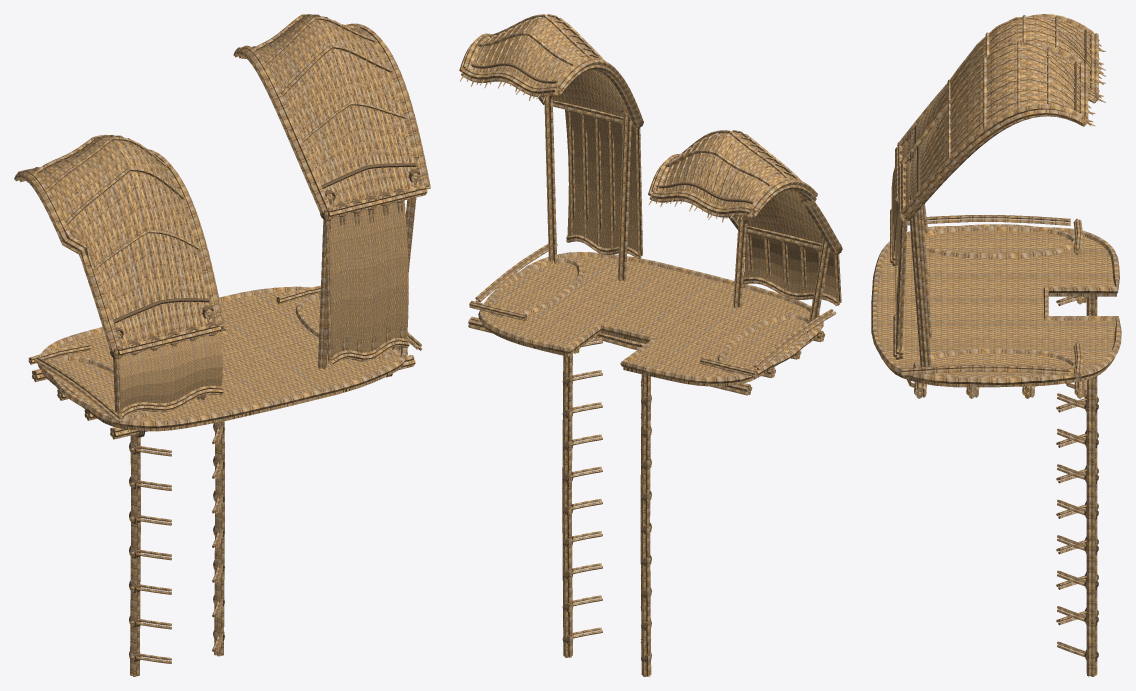
File: boughhome.glb
3 renders of one model, left to right at view 1: azimuth 30°, elevation 25°; view 2: azimuth 150°, elevation 25°; view 3: azimuth 270°, elevation 25°, orthographic. The views are drawn at different scales.
Parts seen in each view (by area): view 1: rainhood-right, rainhood-left, deck, ladder; view 2: deck, rainhood-right, rainhood-left, ladder; view 3: deck, rainhood-right, rainhood-left, ladder.
Part boxes in pixels (<box>): rainhood-right: <box>233,14,430,368</box>; rainhood-left: <box>14,134,224,418</box>; deck: <box>28,285,421,439</box>; ladder: <box>129,421,224,676</box>; deck: <box>468,244,836,395</box>; rainhood-right: <box>459,14,643,280</box>; rainhood-left: <box>648,130,842,321</box>; ladder: <box>562,338,651,676</box>; deck: <box>871,215,1121,398</box>; rainhood-right: <box>893,40,1095,374</box>; rainhood-left: <box>890,14,1105,275</box>; ladder: <box>1056,296,1098,676</box>.
Bounding box in the file's own units: 2.32 × 4.2 × 1.43.
Materials: 3 (2 with a texture image).
